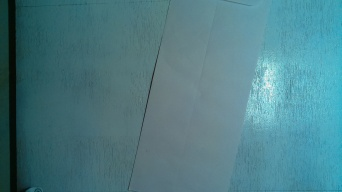l: (127, 2, 258, 192)
